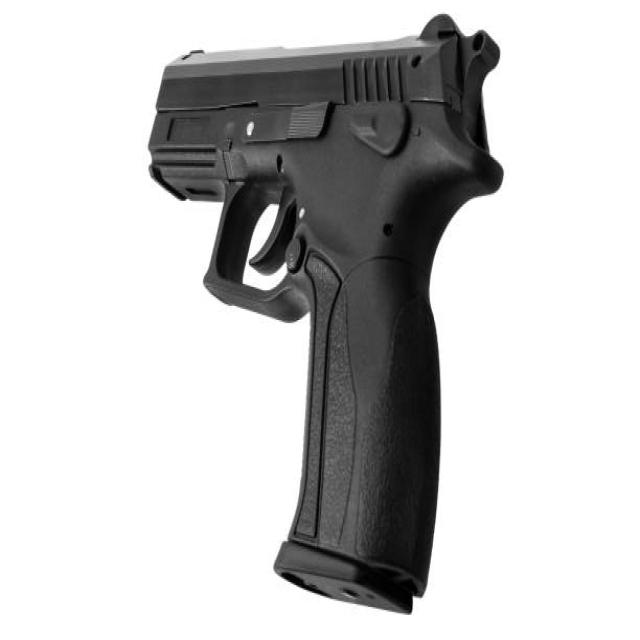pistol: (141, 11, 514, 629)
